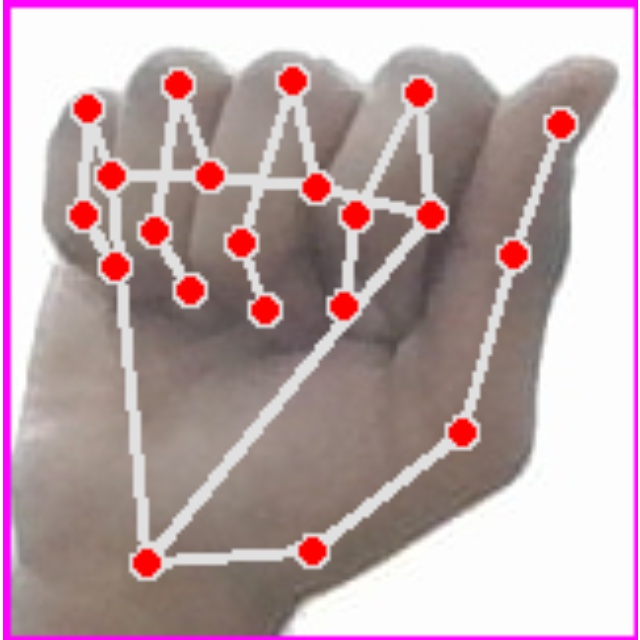A: (3, 0, 638, 640)
